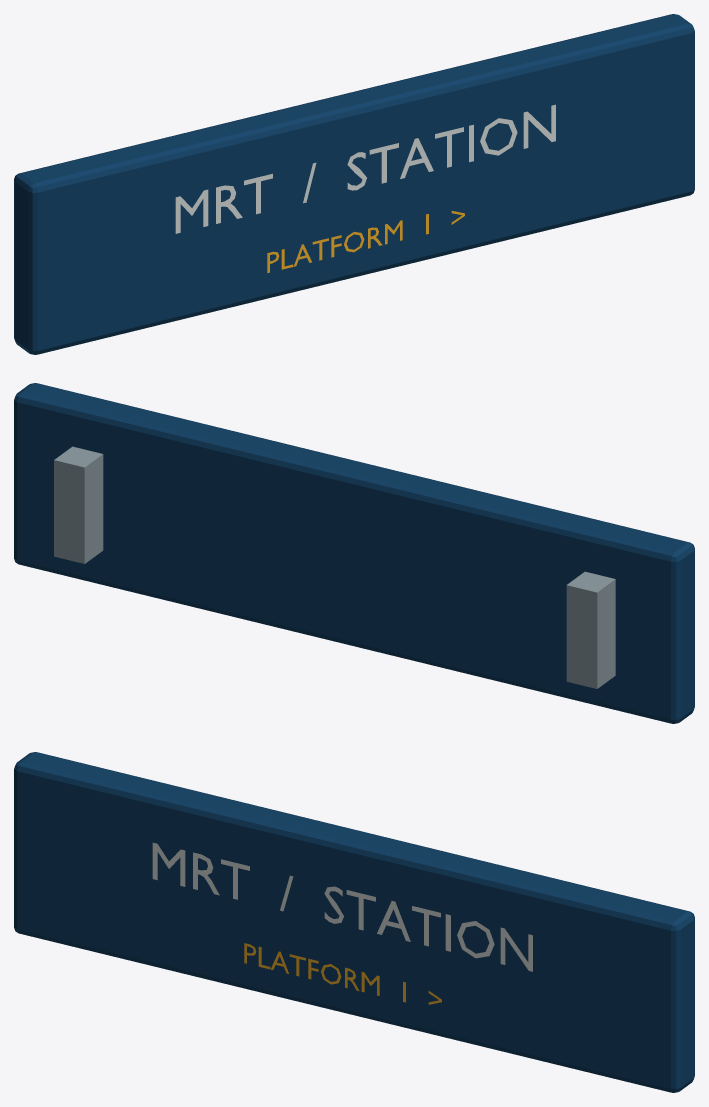
The model's file is sg-station-sign.glb.
The picture shows the model from 3 angles, top to bottom: view 1: azimuth 30°, elevation 25°; view 2: azimuth 150°, elevation 25°; view 3: azimuth 330°, elevation 25°; orthographic projection.
Parts seen in each view (by area): view 1: body; view 2: body; view 3: body.
Boxes of the visible parts, box(x1,y1,x2,y2) form: body: box(14, 14, 694, 354); body: box(14, 383, 694, 723); body: box(14, 752, 694, 1092).
Bounding box in the file's own units: 2.6 × 0.64 × 0.2728.
